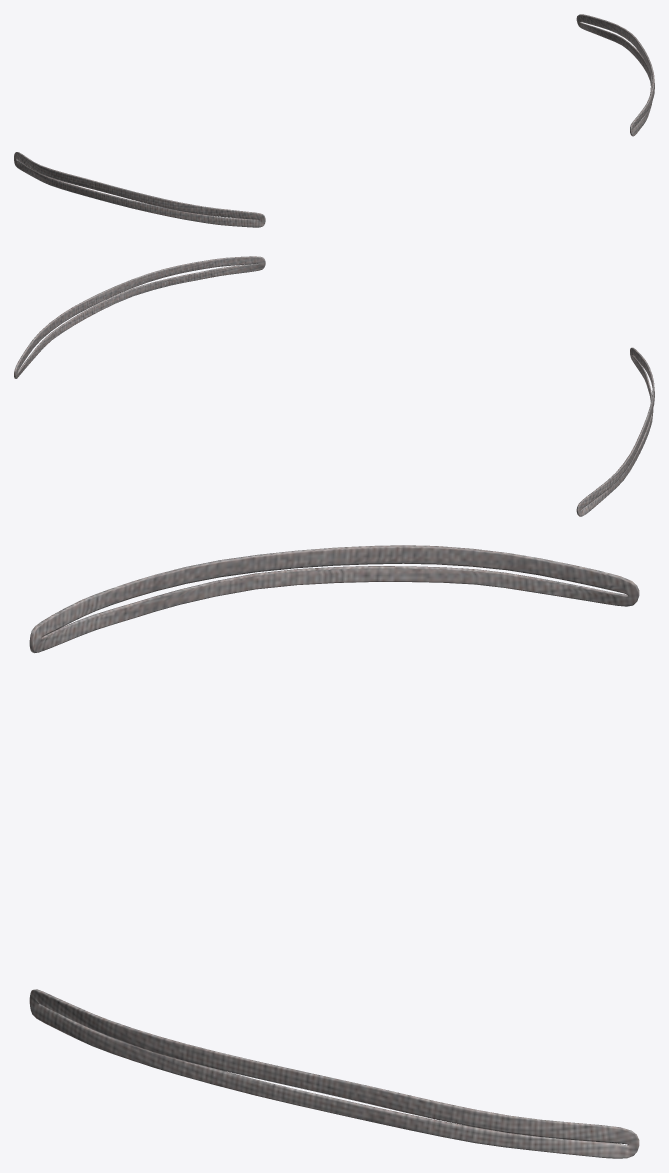
File: Besom_Pocket.glb
3 views of the same model, one above another, from view 1: azimuth 30°, elevation 25°; view 2: azimuth 150°, elevation 25°; view 3: azimuth 270°, elevation 25° (orthographic). The views are drawn at different scales.
Visible parts, largest first — view 1: Besom_Pocket; view 2: Besom_Pocket; view 3: Besom_Pocket.
Boxes of the visible parts, x1,y1,x2,y2 form: Besom_Pocket: [14, 14, 654, 227]; Besom_Pocket: [14, 256, 654, 516]; Besom_Pocket: [29, 545, 639, 1158].
Bounding box in the file's own units: 0.0447 × 0.00285 × 0.0204.
1 material, 1 textured.
